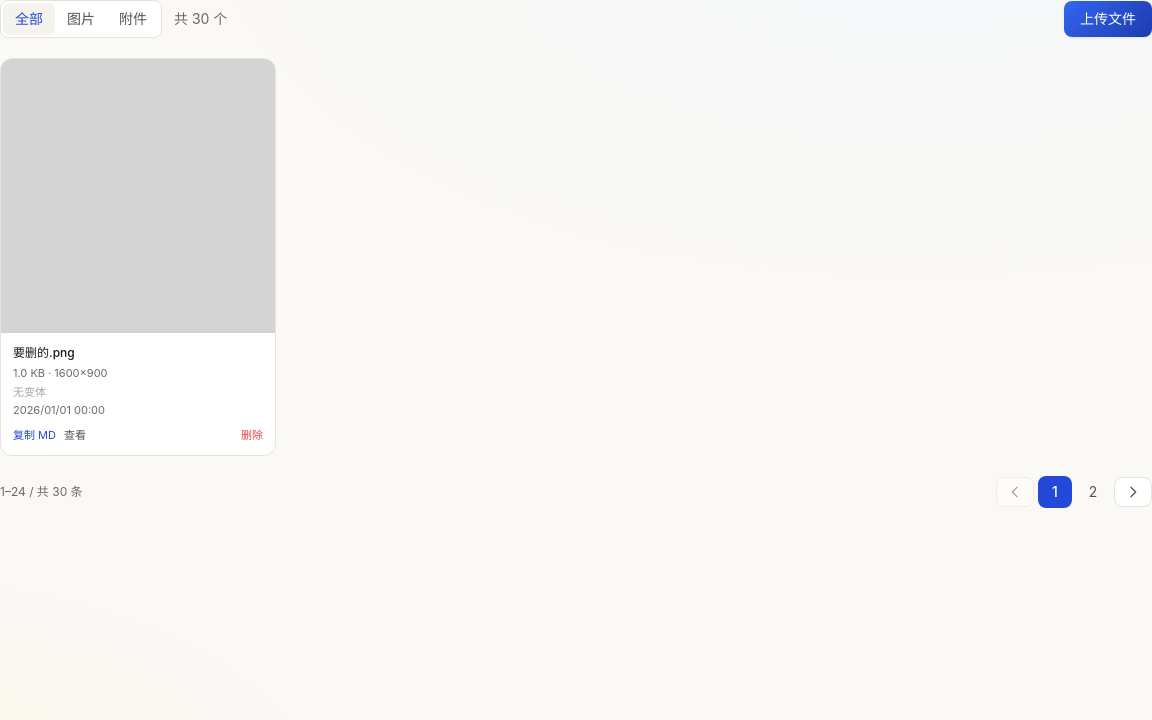
Test: MediaView · 删除 › 确认删除：用 id 调 remove，成功后关框、提示并刷新列表（保留当前筛选）
Click the button "图片": (81, 19) [55,3,107,35]
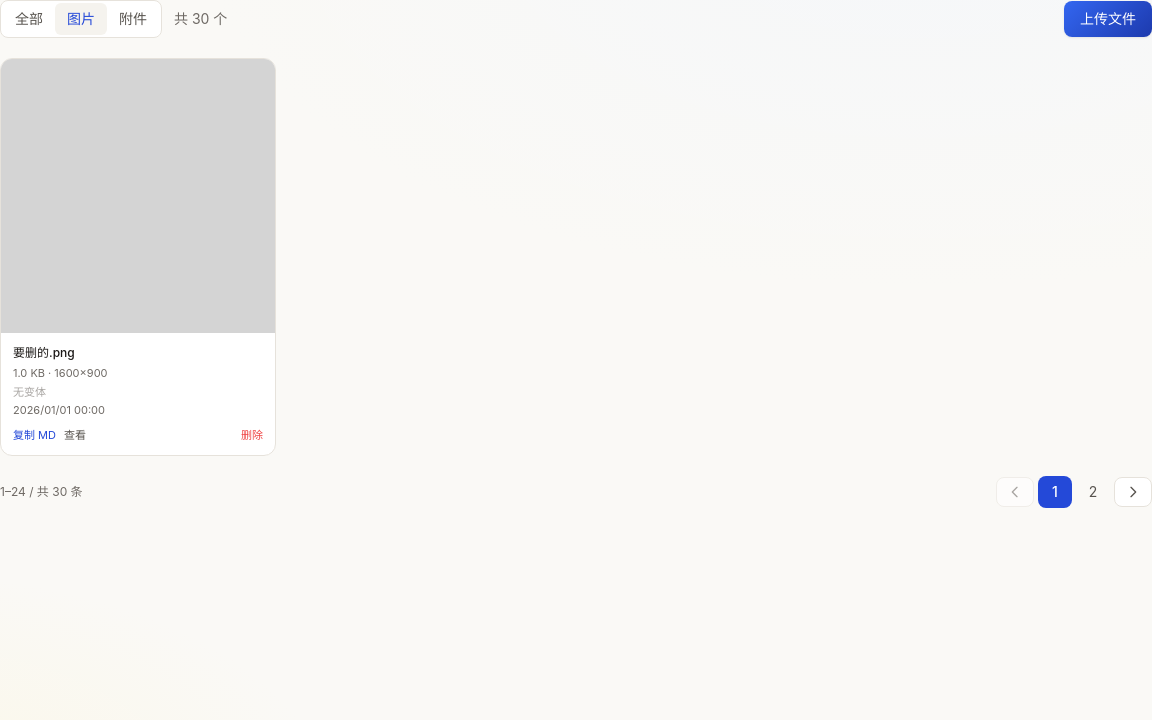
Click the button "删除": (252, 435) [241,426,263,443]
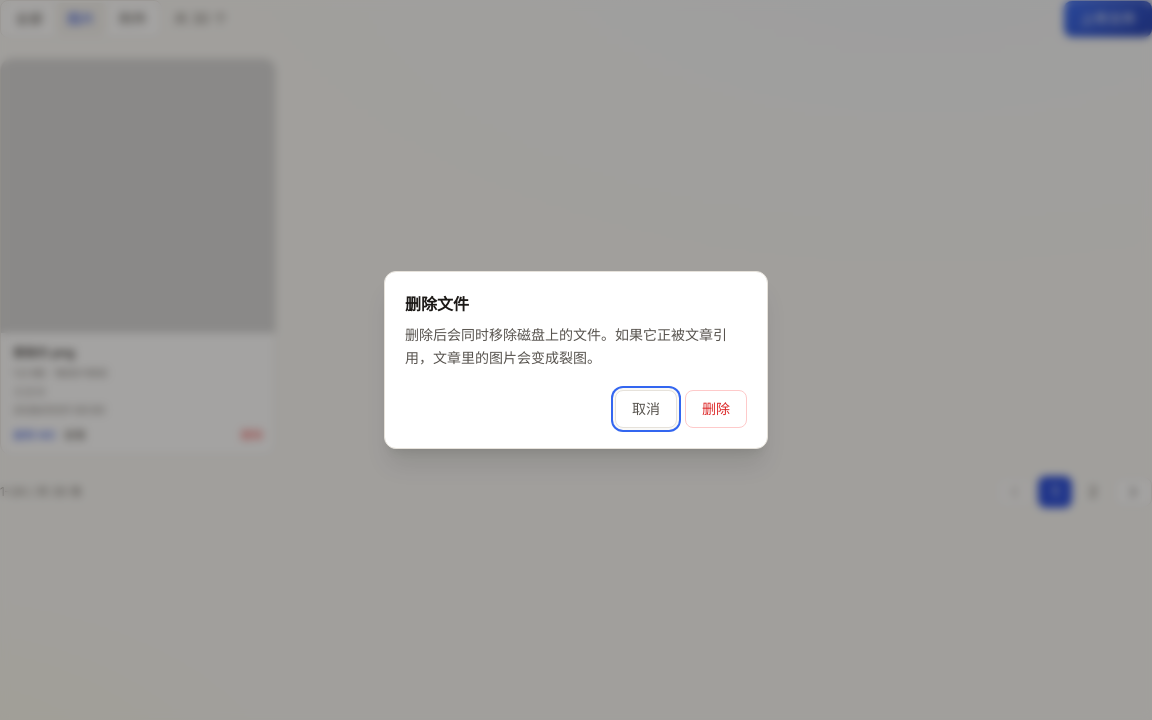
Click the button "删除": (716, 409) [685,390,747,428]
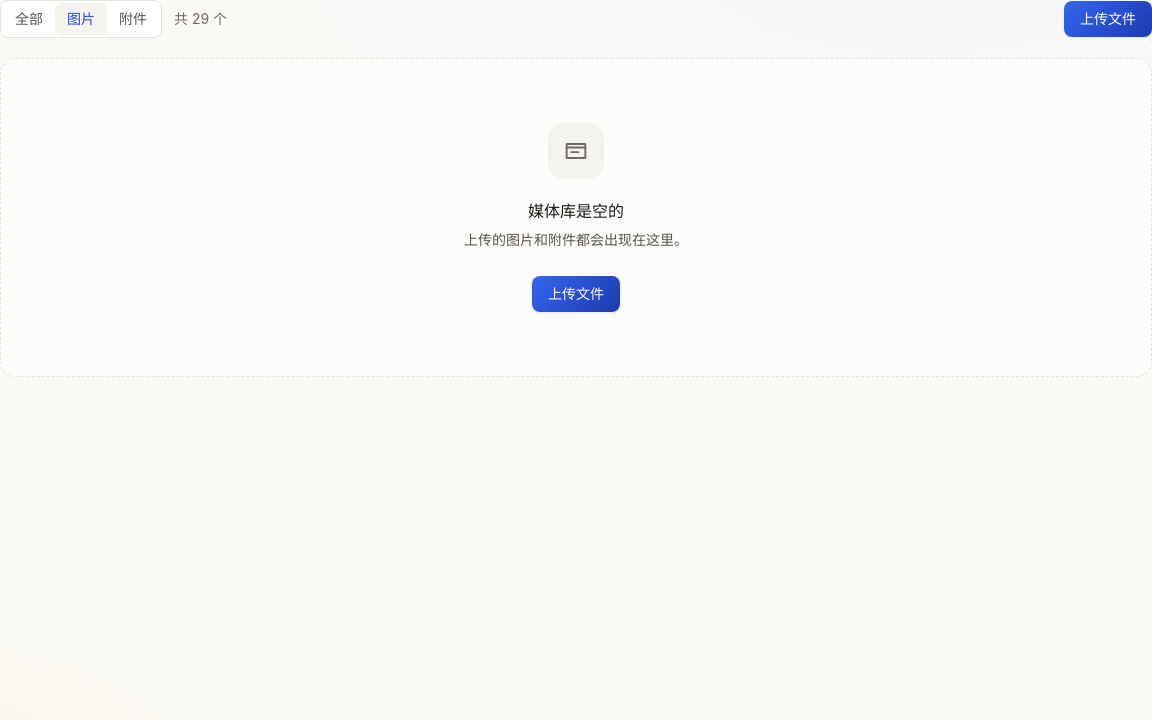
Now the dialog is gone
Now the text "要删的.png" is gone
